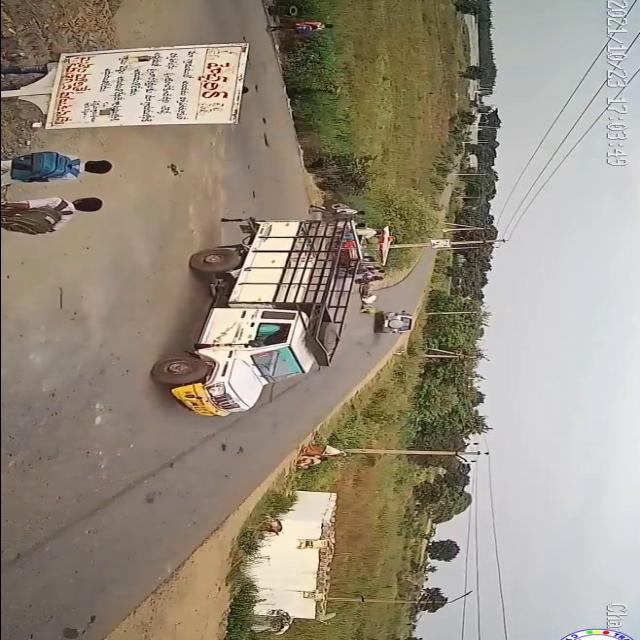accident: (352, 281, 416, 339)
